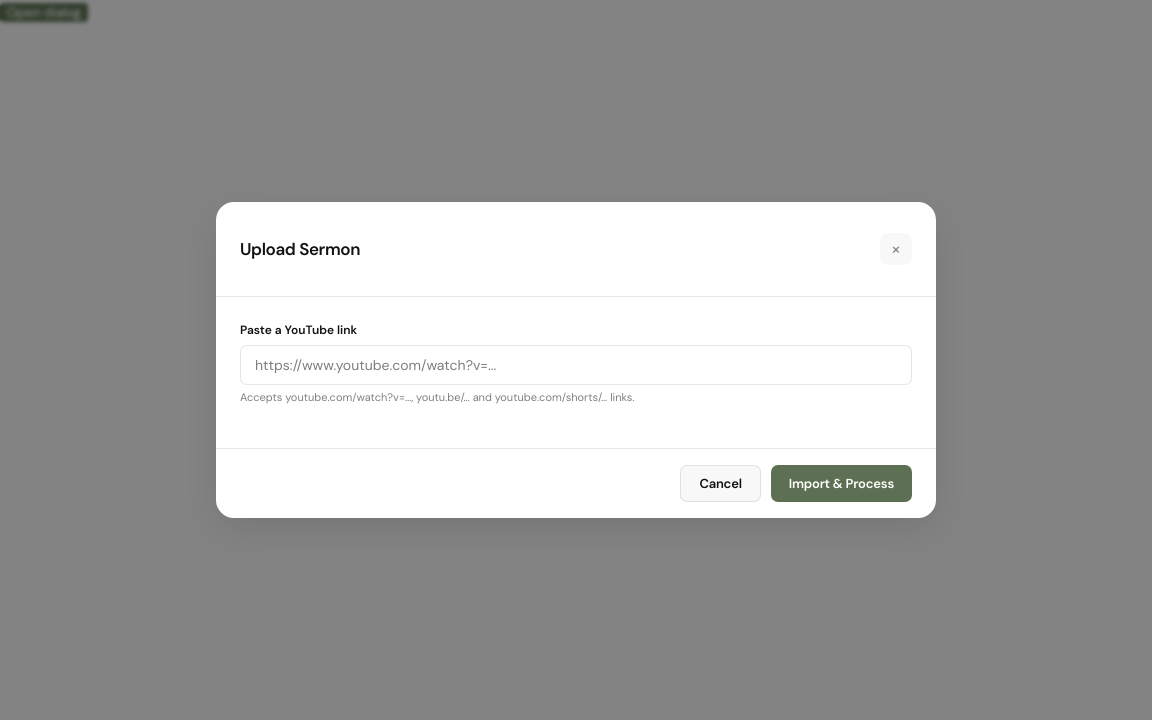
Test: adds https:// to a link pasted without it
The width and height of the screenshot is (1152, 720).
Type "youtu.be/F_OiCiZ3Y3Y" into the field named "YouTube link" at (576, 365), box [240,345,912,385]
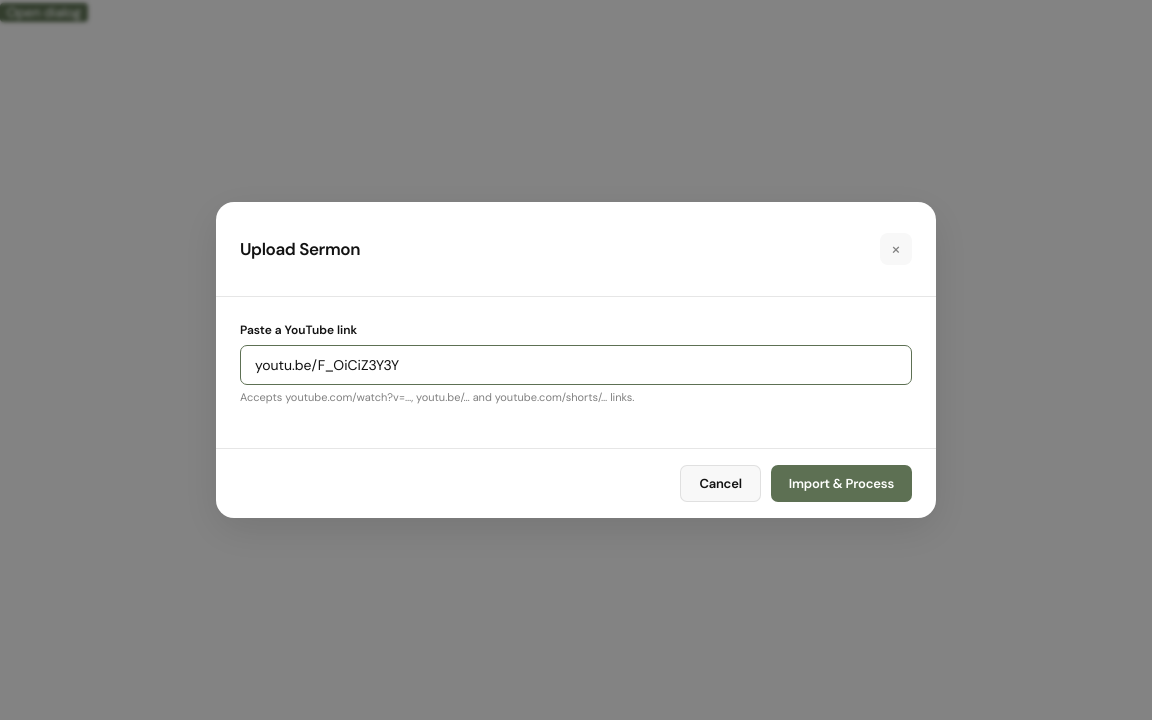
Click the button "Import & Process" at (841, 483), box [771,465,912,502]
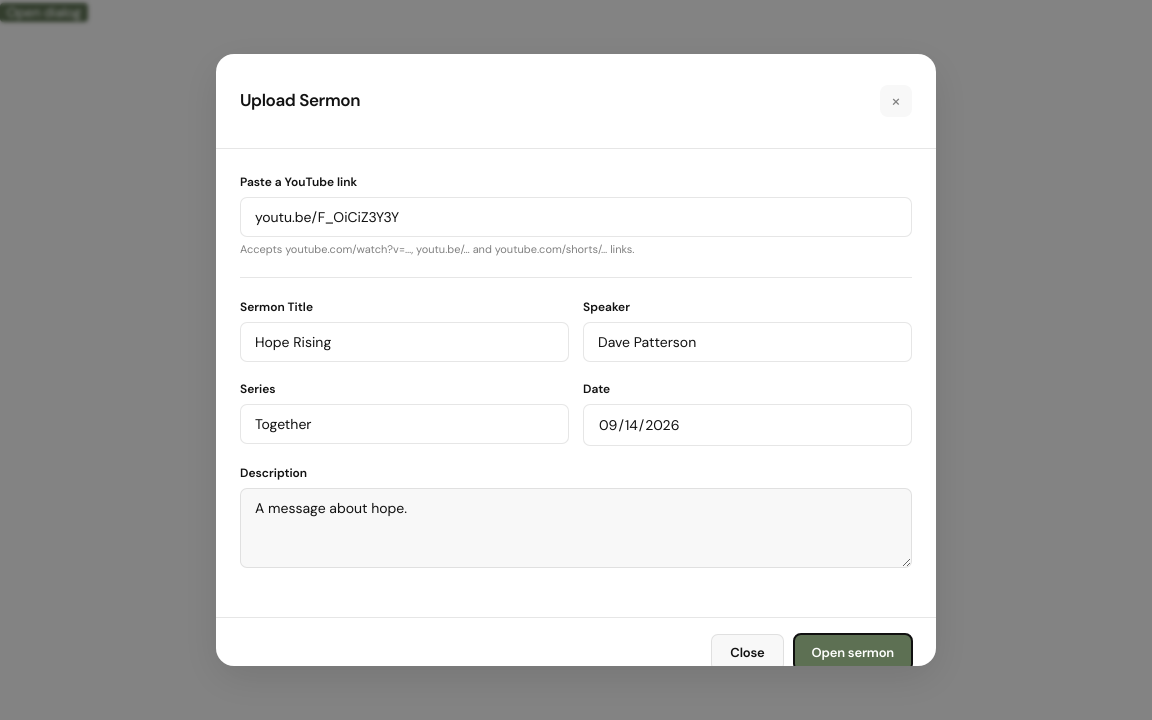
Check: the field named "Sermon title" is shown, box [240,322,569,362]
